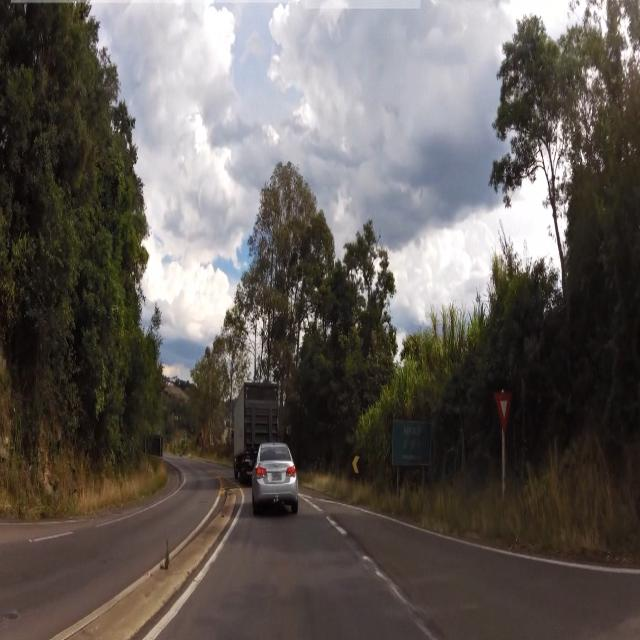R-2: (492, 385, 515, 439), (350, 449, 361, 476)
